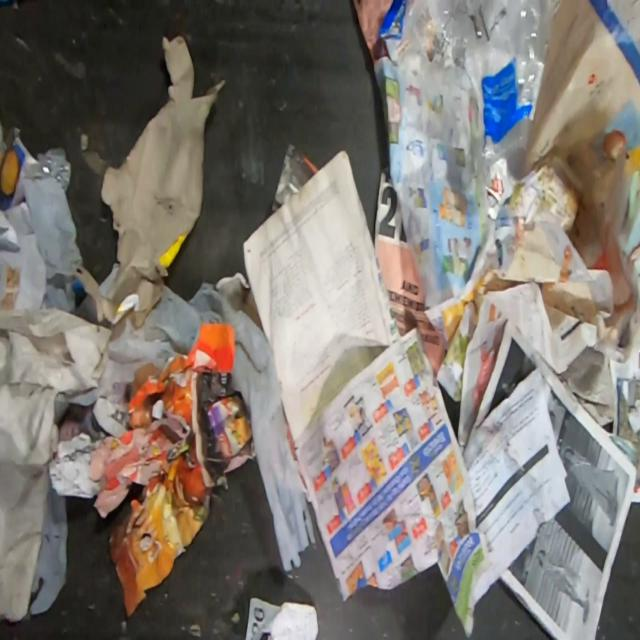rigid_plastic: (36, 148, 73, 193)
soft_plastic: (384, 0, 555, 177)
